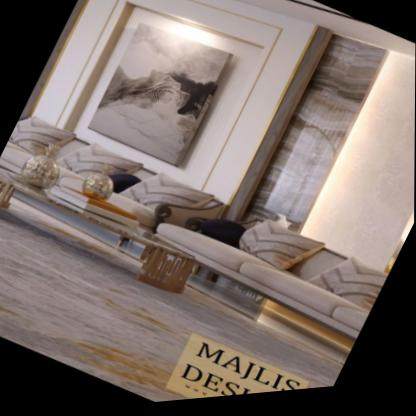Wall Panel: (224, 10, 416, 305)
